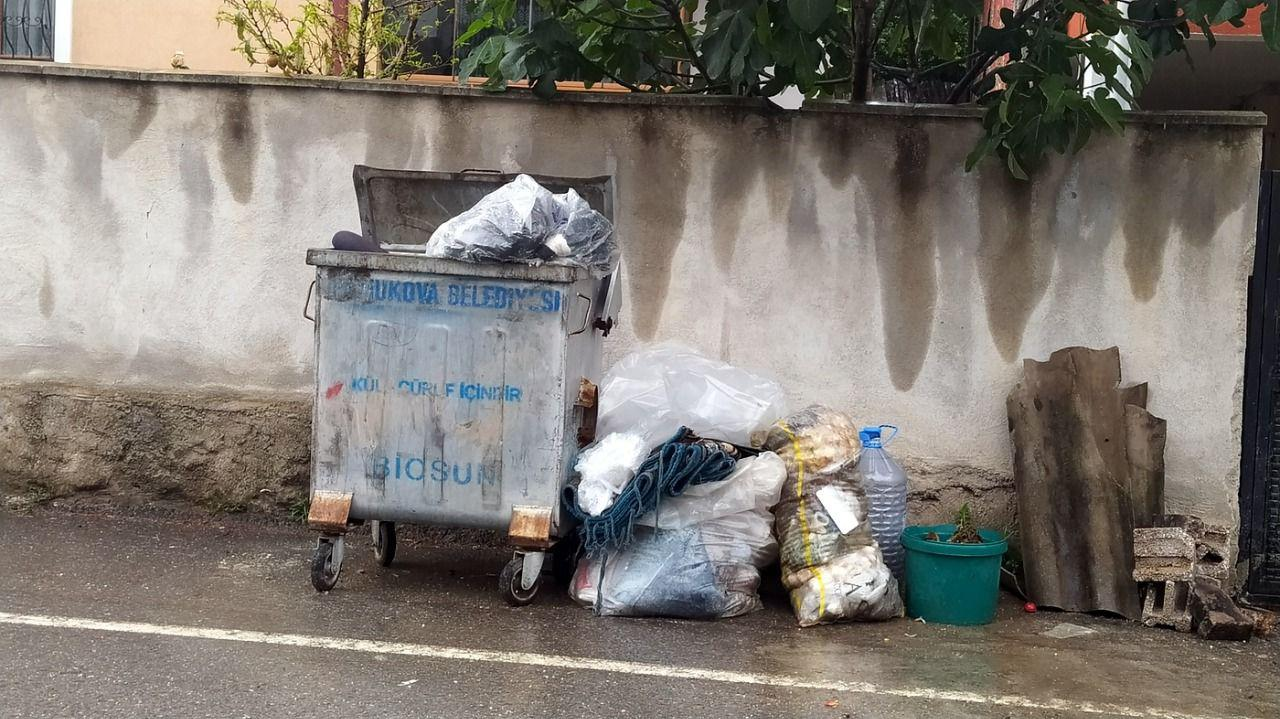Container: (308, 247, 585, 604), (351, 156, 618, 263)
Garbage: (608, 348, 807, 622), (747, 382, 906, 629), (436, 173, 616, 267)
